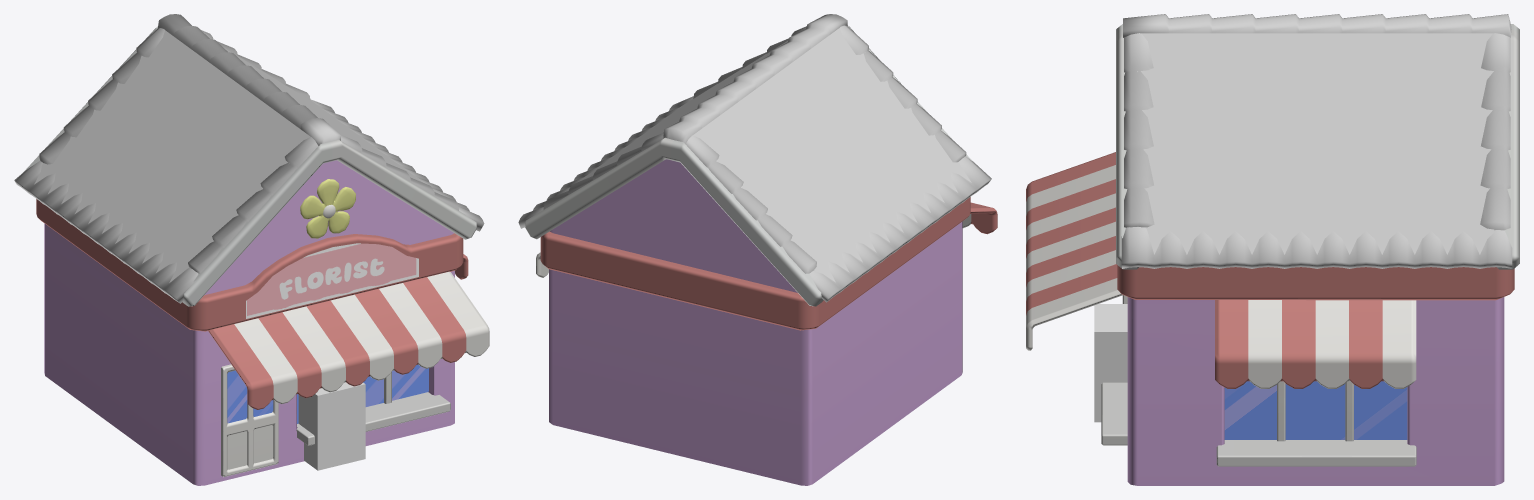
The model's file is Florist.fbx.
The picture shows the model from 3 angles, left to right: view 1: azimuth 30°, elevation 25°; view 2: azimuth 150°, elevation 25°; view 3: azimuth 270°, elevation 25°; orthographic projection. The views are drawn at different scales.
Visible parts, largest first — view 1: Florist.001, Roof.001, Roof, Sign, Cube.340, Door.003; view 2: Florist.001, Roof.001, Roof; view 3: Florist.001, Roof.001, Roof, Cube.340.
Part boxes in pixels (x1,y1,x2,y2): Florist.001: [23, 26, 489, 485]; Roof.001: [34, 30, 438, 282]; Roof: [14, 14, 484, 303]; Sign: [246, 243, 418, 318]; Cube.340: [298, 382, 365, 470]; Door.003: [221, 364, 278, 477]; Florist.001: [525, 25, 997, 485]; Roof.001: [564, 28, 971, 282]; Roof: [518, 14, 991, 302]; Florist.001: [1026, 24, 1519, 485]; Roof.001: [1137, 33, 1494, 254]; Roof: [1121, 14, 1512, 268]; Cube.340: [1094, 304, 1127, 422].
Bounding box in the file's own units: 700 × 652 × 744.
